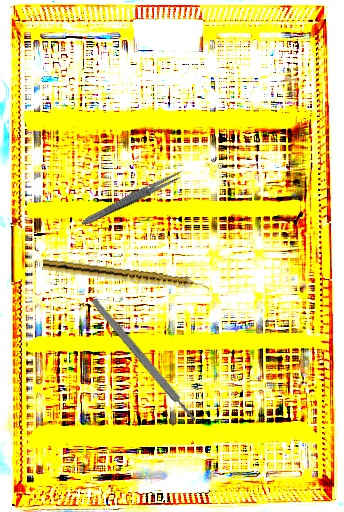Dressing Forceps: (79, 167, 186, 229)
Handpiece: (41, 258, 211, 295)
Scalpel Handle: (89, 297, 199, 424)
